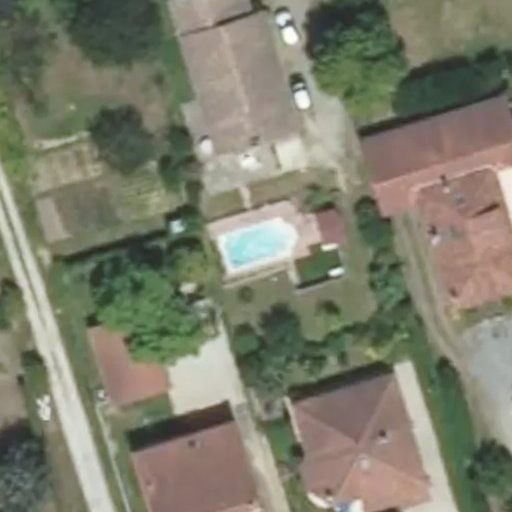pool: (219, 234, 297, 246)
